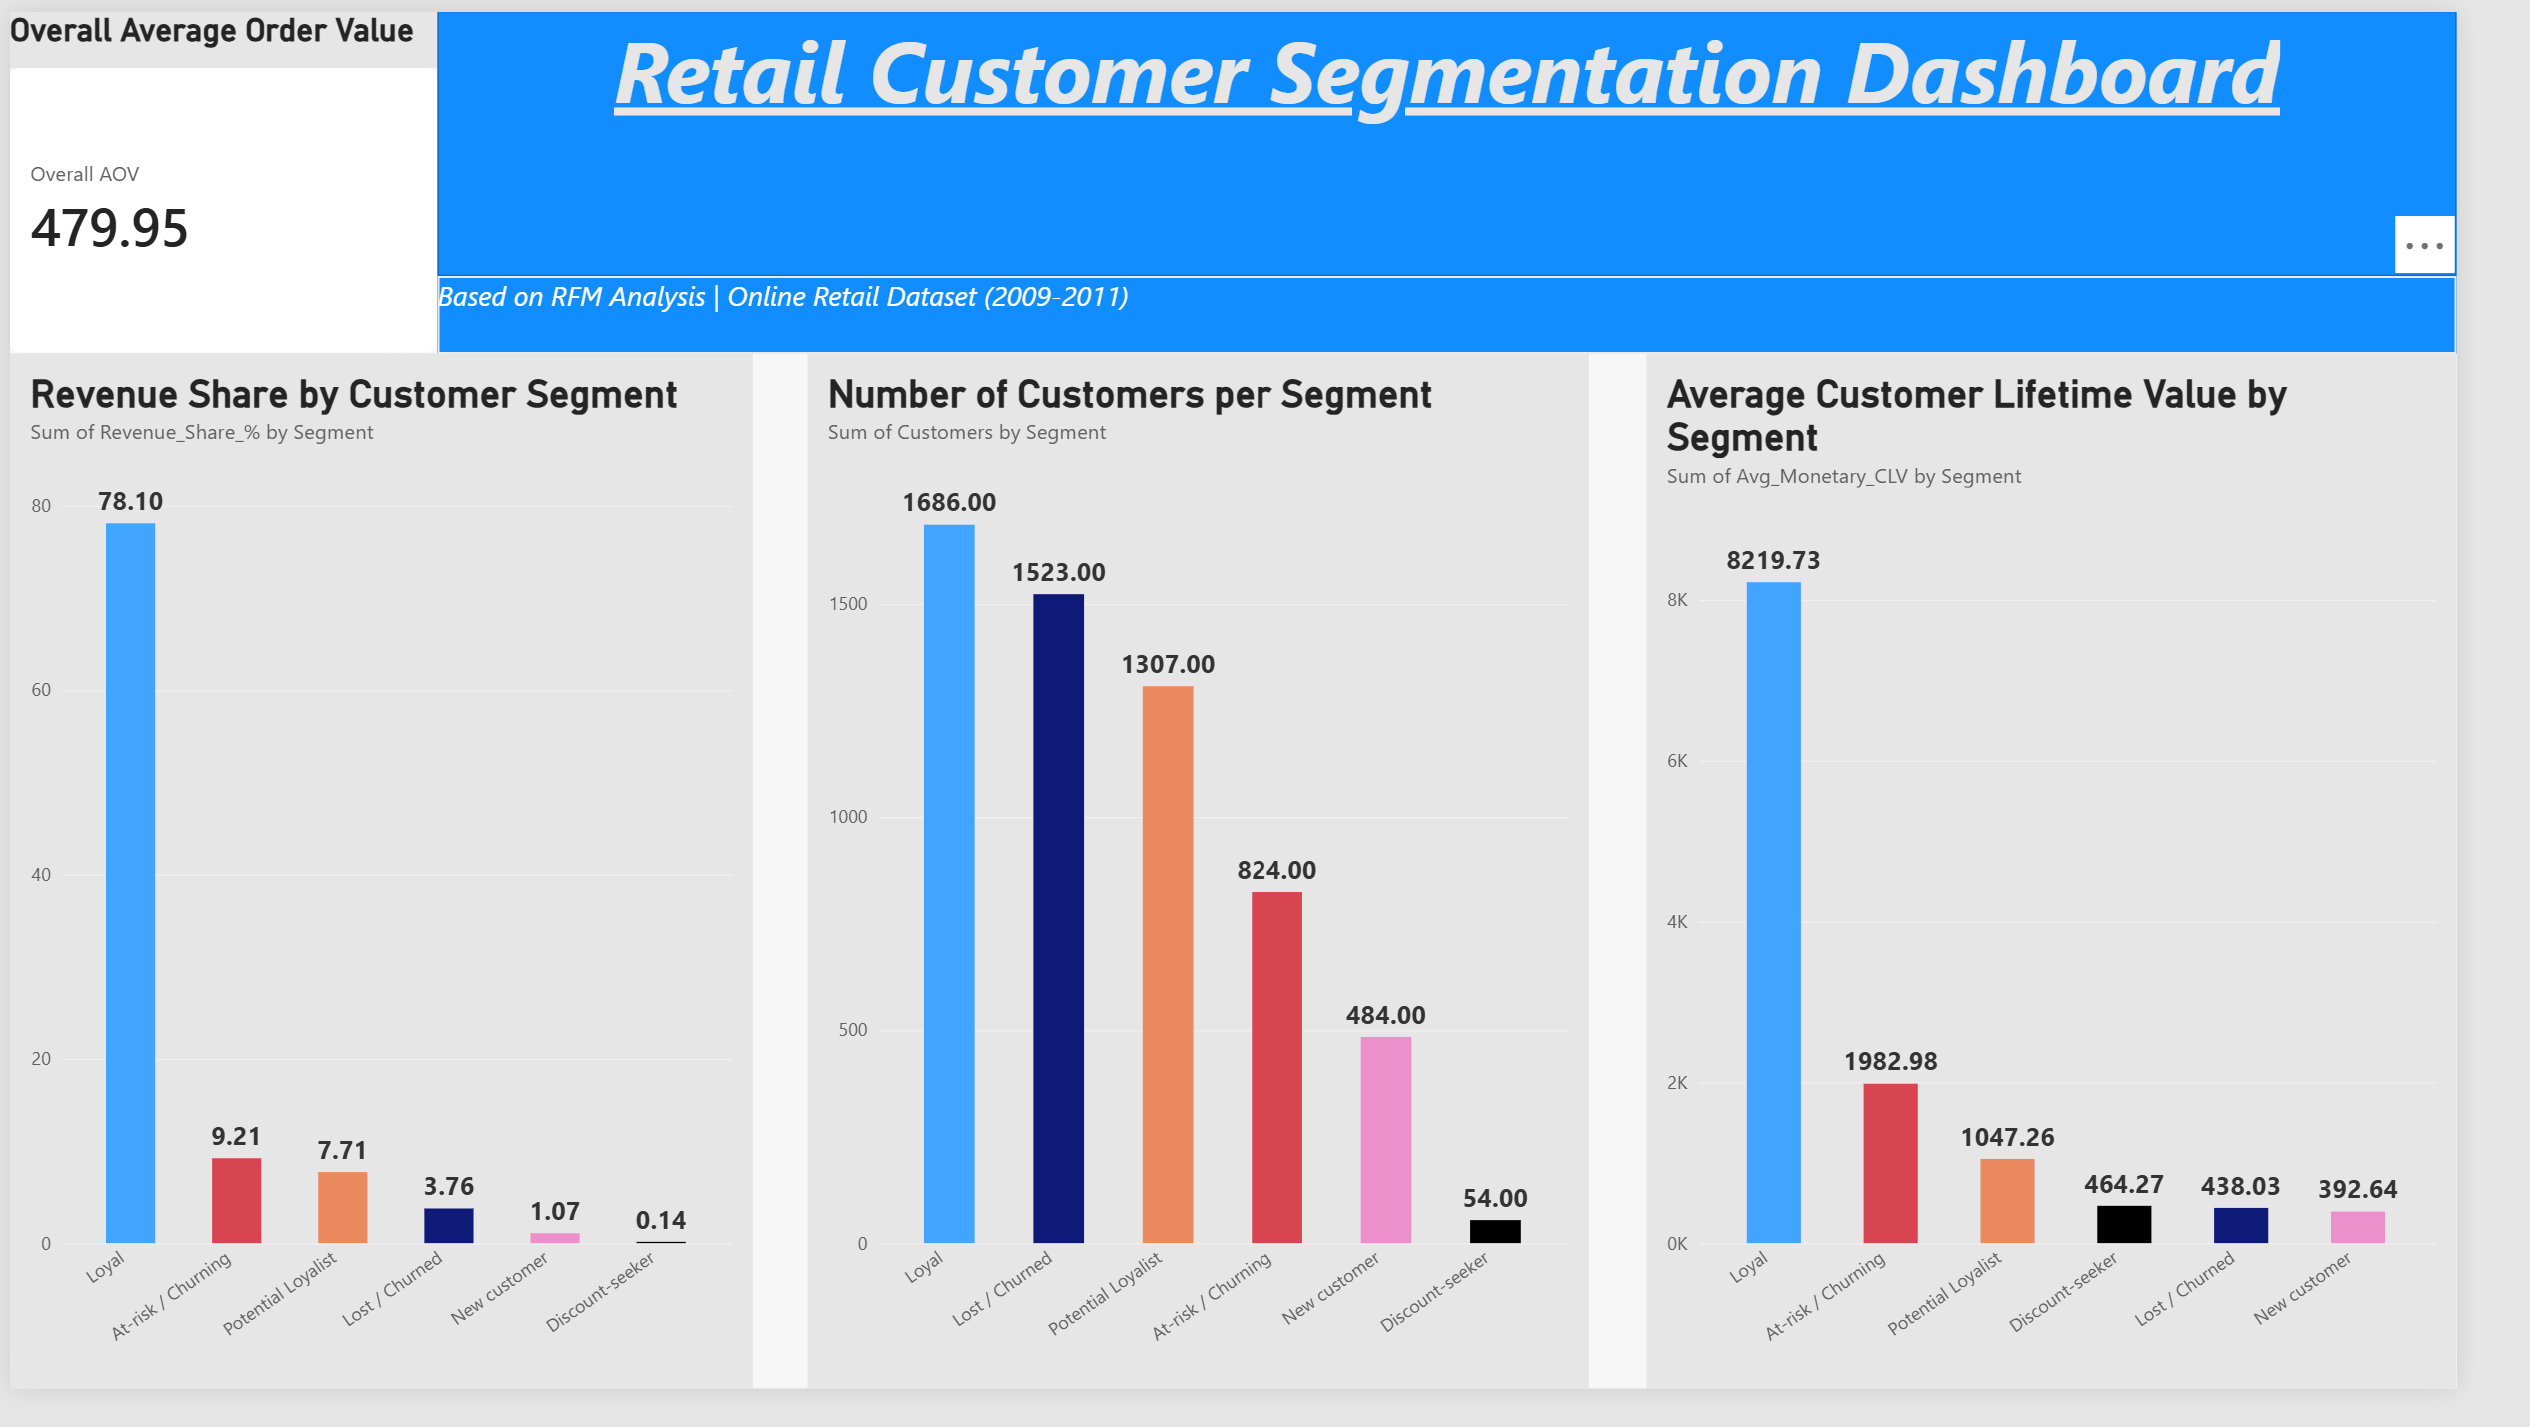

The dashboard page shown, as its layout file describes it:
{"tool":"powerbi","page":{"name":"Page 1","canvas":[1920,1080],"ordinal":0},"visuals":[{"type":"clusteredColumnChart","title":"Revenue Share by Customer Segment","fields":{"Category":["segment_summary.Segment"],"Y":["Sum(segment_summary.Revenue_Share_%)"]},"box":[0,268.6,582.4,811.8],"z":0},{"type":"clusteredColumnChart","title":"Number of Customers per Segment","fields":{"Category":["segment_summary.Segment"],"Y":["Sum(segment_summary.Customers)"]},"box":[625.5,268.6,613.7,811.8],"z":1000},{"type":"clusteredColumnChart","title":"Average Customer Lifetime Value by Segment","fields":{"Category":["segment_summary.Segment"],"Y":["Sum(segment_summary.Avg_Monetary_CLV)"]},"box":[1284.3,268.6,635.3,811.8],"z":2000},{"type":"cardVisual","title":"Overall Average Order Value","fields":{"Data":["clean_transactions.Overall AOV"]},"box":[0,0,335.3,268.6],"z":3000},{"type":"shape","title":"Retail Customer Segmentation Dashboard","box":[335.3,0,1584.3,207.8],"z":4000},{"type":"shape","box":[335.3,207.8,1584.3,60.8],"z":5000},{"type":"clusteredColumnChart","title":"Revenue Share by Customer Segment","fields":{"Category":["segment_summary.Segment"],"Y":["Sum(segment_summary.Revenue_Share_%)"]},"box":[0,268.2,582.4,811.8],"z":6000}]}

Visuals, with their boxes in screenshot pixels (x1, y1, x2, y2), scaled from the page's 1920x1080 canvas onto the 2530x1427 screenshot:
"Revenue Share by Customer Segment" clusteredColumnChart: bbox(0, 355, 767, 1426)
"Number of Customers per Segment" clusteredColumnChart: bbox(824, 355, 1633, 1426)
"Average Customer Lifetime Value by Segment" clusteredColumnChart: bbox(1692, 355, 2529, 1426)
"Overall Average Order Value" cardVisual: bbox(0, 0, 442, 355)
"Retail Customer Segmentation Dashboard" shape: bbox(442, 0, 2529, 275)
shape: bbox(442, 275, 2529, 355)
"Revenue Share by Customer Segment" clusteredColumnChart: bbox(0, 354, 767, 1426)
